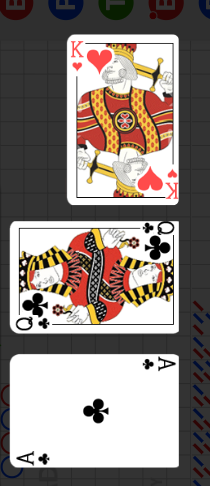AC: (139, 356, 177, 374)
KH: (69, 39, 85, 73), (165, 167, 179, 201)
QC: (132, 223, 179, 267), (12, 290, 58, 334)
